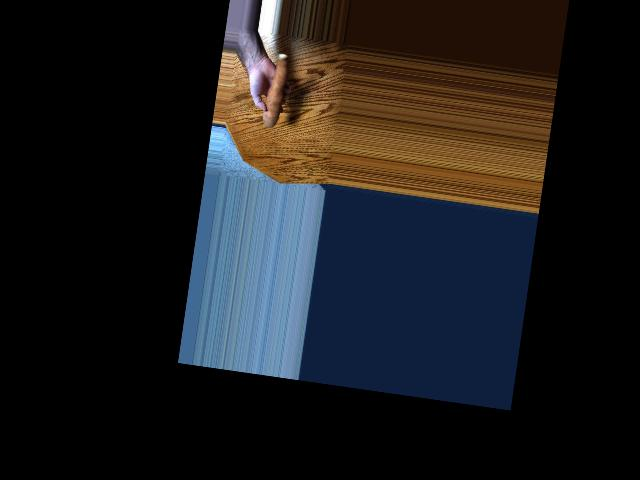sweet_potato: (265, 58, 293, 129)
